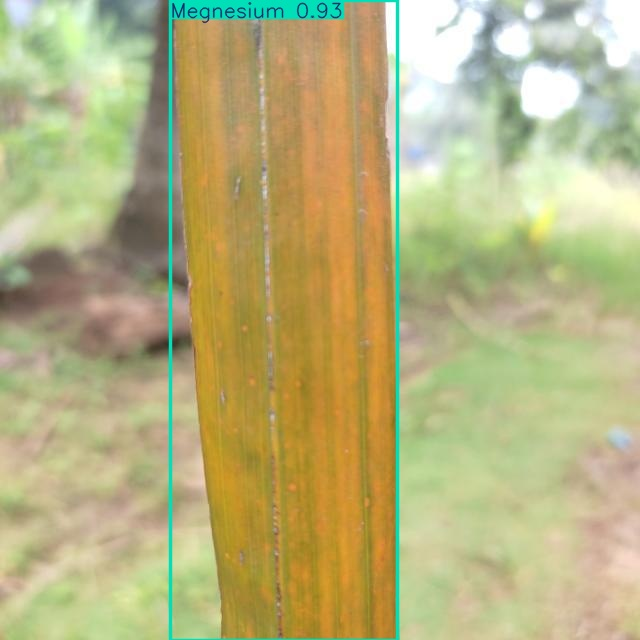Megnesium: (170, 1, 398, 640)
